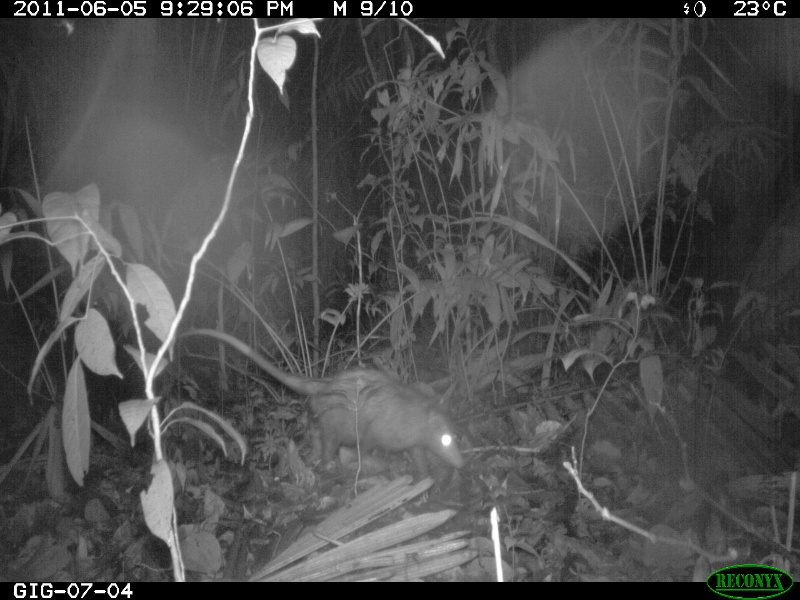opossum: (174, 322, 468, 473)
